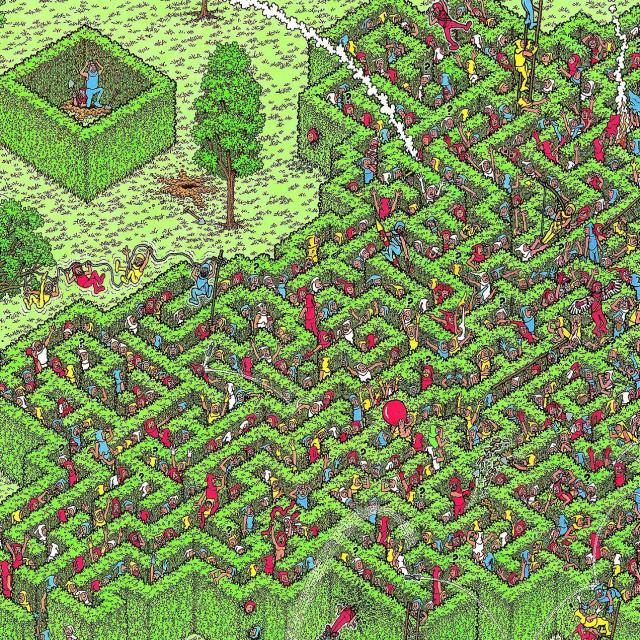waldo: (562, 277, 572, 292)
